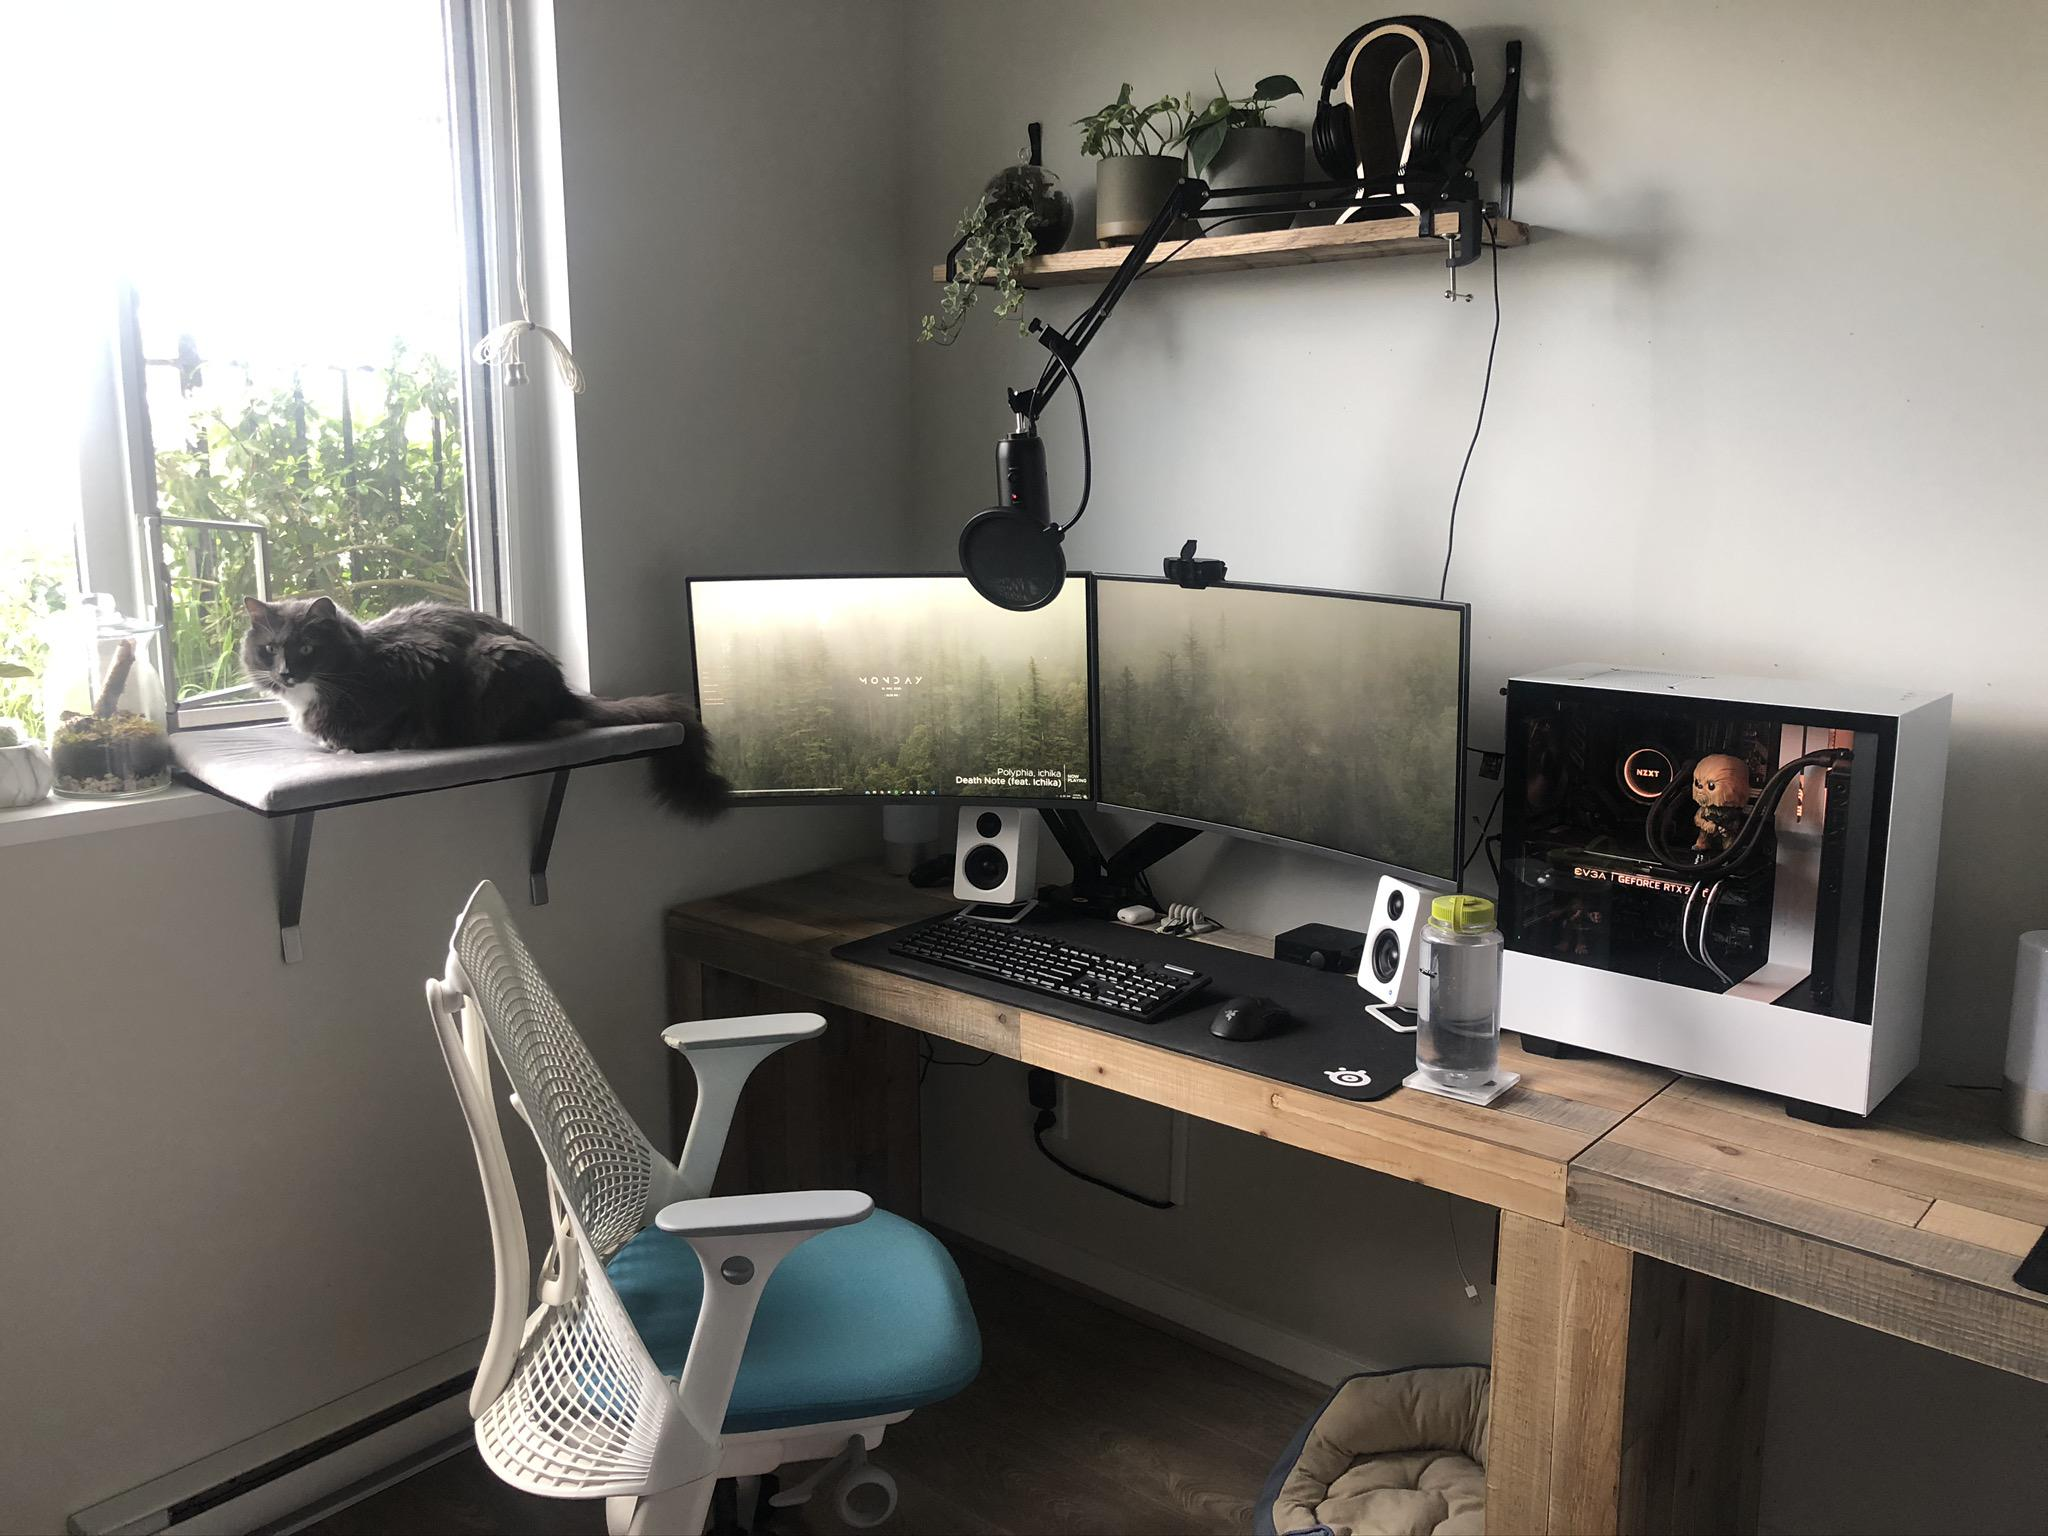Airpods (Apple): (1114, 900, 1159, 929)
Chair (Generic): (424, 878, 980, 1536)
Decoration (Plant): (918, 118, 1072, 350), (1172, 68, 1306, 231), (1074, 86, 1188, 244)
Desk (Generic): (663, 862, 1684, 1536)
Desktop (Windows): (1500, 665, 1954, 1131)
Drink Coaster: (1398, 1063, 1524, 1105)
External Microphone (with Boom Arm): (956, 177, 1484, 615)
External Sound Card (Pre-amplifier): (1274, 923, 1367, 973)
External Speakers (Subwoofers): (1353, 874, 1459, 1033), (951, 803, 1042, 926), (1158, 534, 1229, 594)
Headphones: (1311, 13, 1480, 182)
Keyboard (Generic): (887, 921, 1213, 1025)
Lamp (Desk): (1992, 926, 2048, 1155)
Monitor (Landscape): (1089, 570, 1476, 886), (679, 566, 1097, 810)
Monitor Arm: (1039, 805, 1213, 904)
Mouse (Gaming): (1209, 994, 1293, 1042)
Mousepad (Gaming): (826, 905, 1419, 1105)
Water Bottle: (1414, 894, 1505, 1091)
